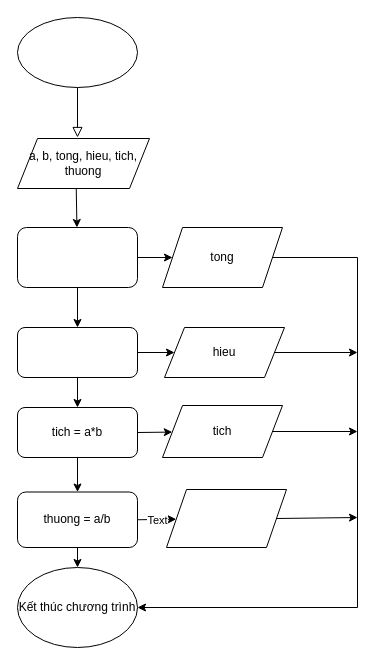
The diagram is 383 pixels wide and 665 high, and some of its shapes have lost their labels. The shapes that lost their labels are listed below. From the top down, each one's centre as x and y in pixels, then its label:
At (x=77, y=52): "Bắt đầu chương trình".
At (x=77, y=257): "tong = a + b".
At (x=77, y=352): "hieu = a - b".
At (x=226, y=518): "thuong".
